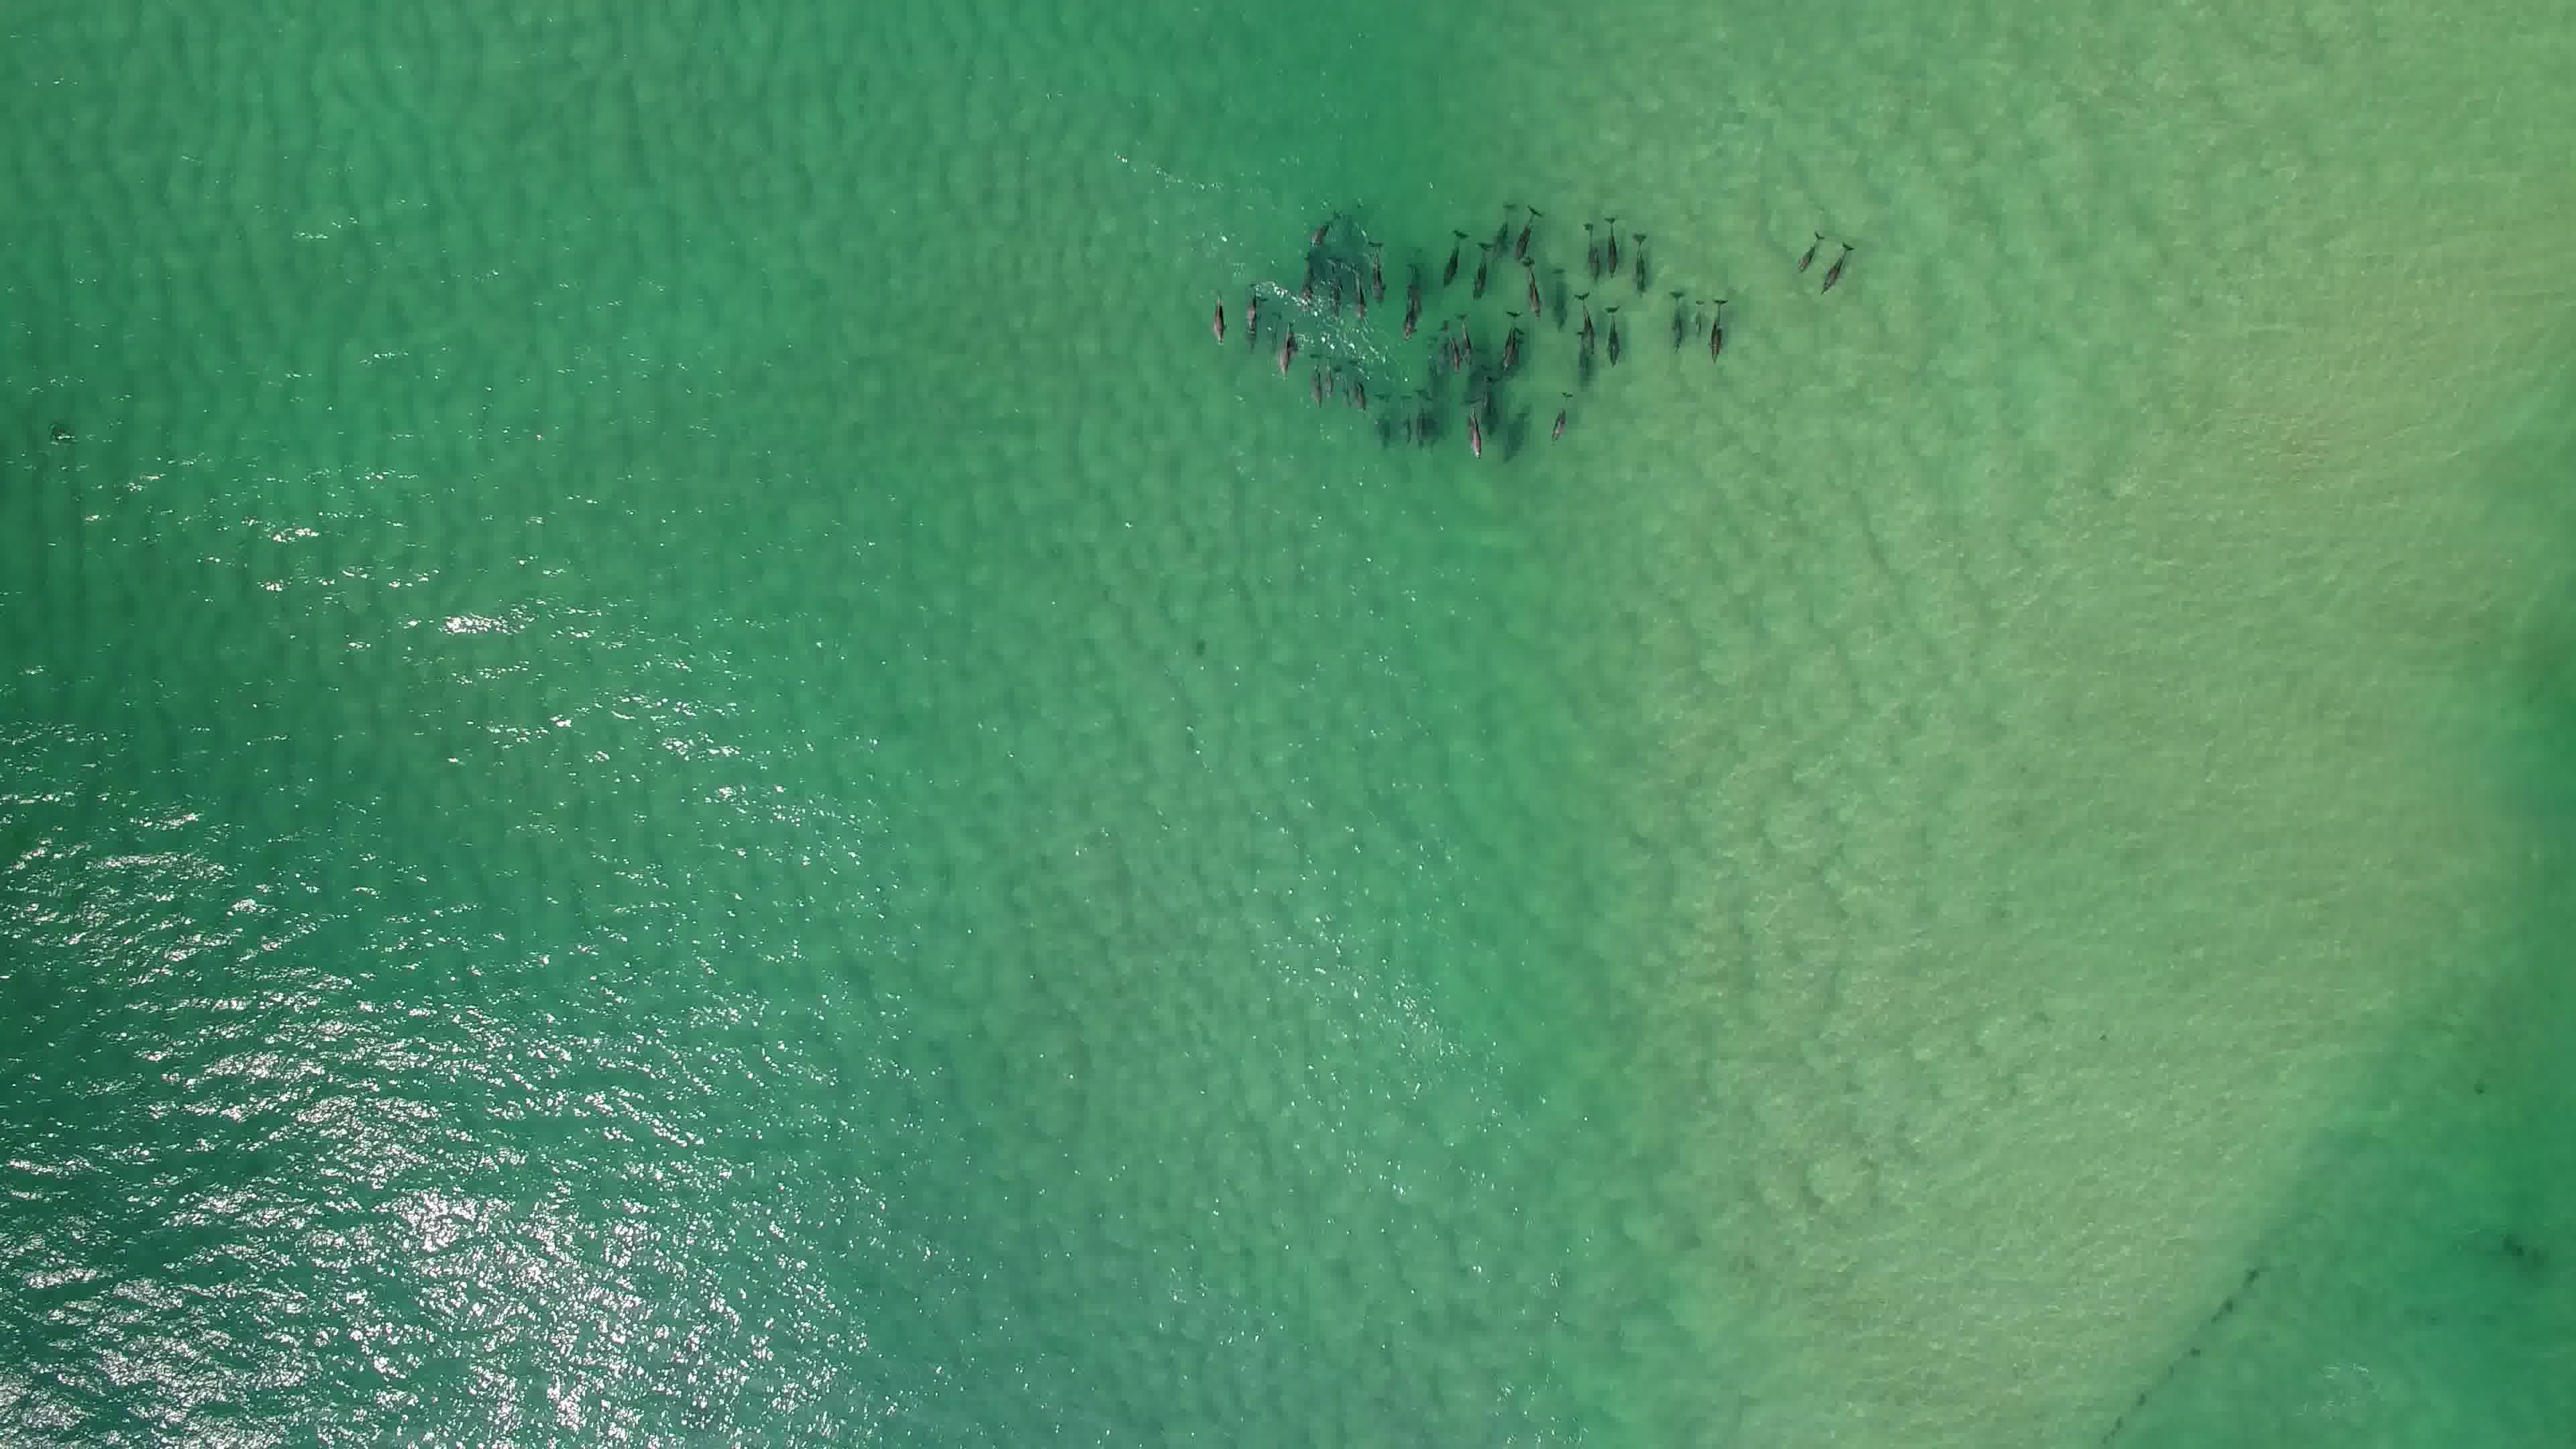dolphin: (1502, 200, 1553, 262), (1812, 234, 1859, 297), (1394, 260, 1431, 340), (1488, 308, 1530, 373), (1541, 382, 1582, 446), (1698, 294, 1739, 356), (1514, 251, 1550, 322), (1622, 225, 1658, 294), (1361, 234, 1394, 304), (1596, 297, 1628, 372), (1463, 234, 1500, 295), (1568, 287, 1601, 354), (1661, 287, 1693, 354), (1787, 219, 1824, 276), (1198, 288, 1238, 340), (1235, 283, 1272, 336), (1299, 200, 1341, 246), (1458, 400, 1488, 464), (1269, 313, 1302, 370), (1576, 212, 1603, 280), (1297, 253, 1330, 306), (1453, 306, 1481, 368), (1322, 260, 1355, 311), (1304, 349, 1330, 412), (1598, 212, 1624, 274), (1444, 223, 1470, 285), (1403, 386, 1431, 441), (1346, 356, 1373, 410), (1318, 343, 1345, 398), (1491, 198, 1520, 249), (1438, 313, 1463, 372), (1346, 265, 1369, 322)
